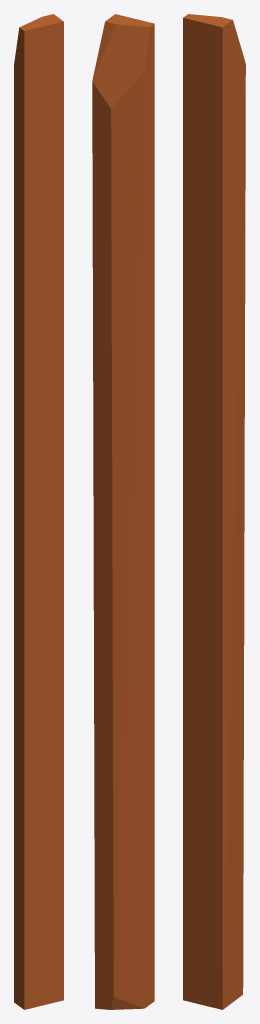
3 views of the same model, side by side, from view 1: azimuth 30°, elevation 25°; view 2: azimuth 150°, elevation 25°; view 3: azimuth 330°, elevation 25° (orthographic).
Size of the model in its own units: 1.84 by 42.26 by 1.71.
